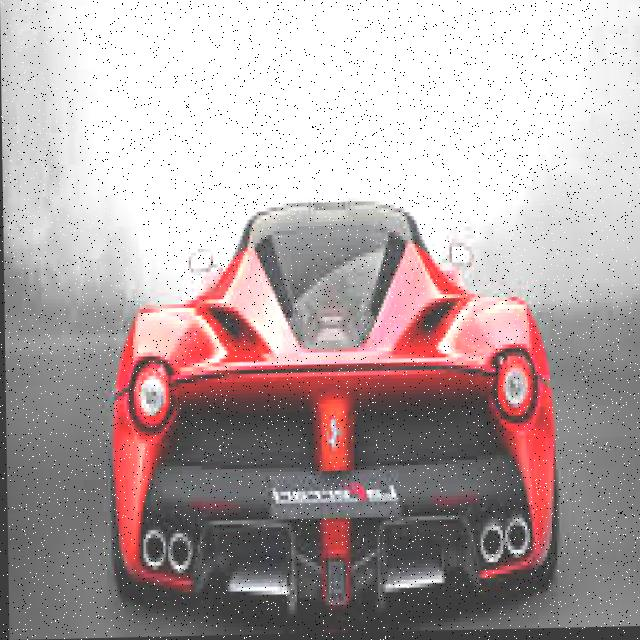car: (96, 148, 584, 634)
